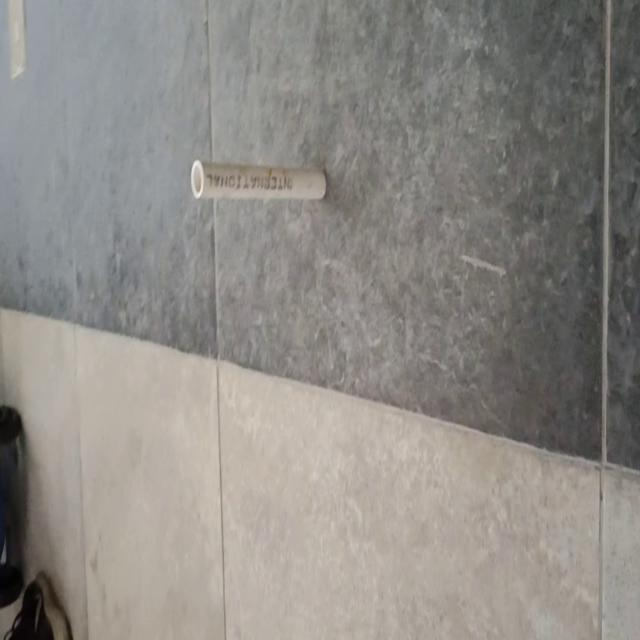Cube: (189, 156, 327, 202)
